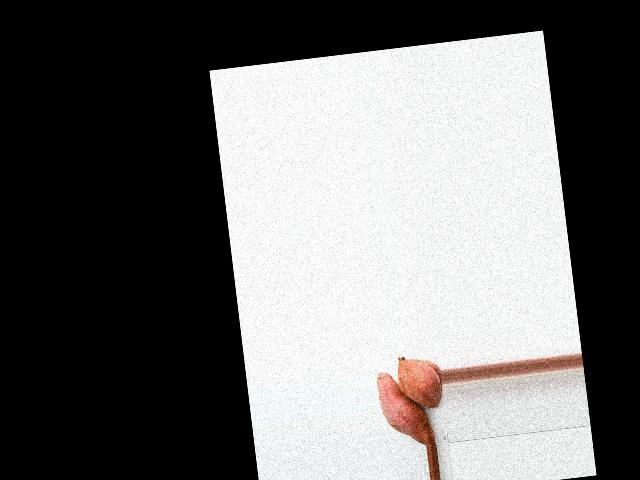sweet_potato: (399, 352, 439, 408)
